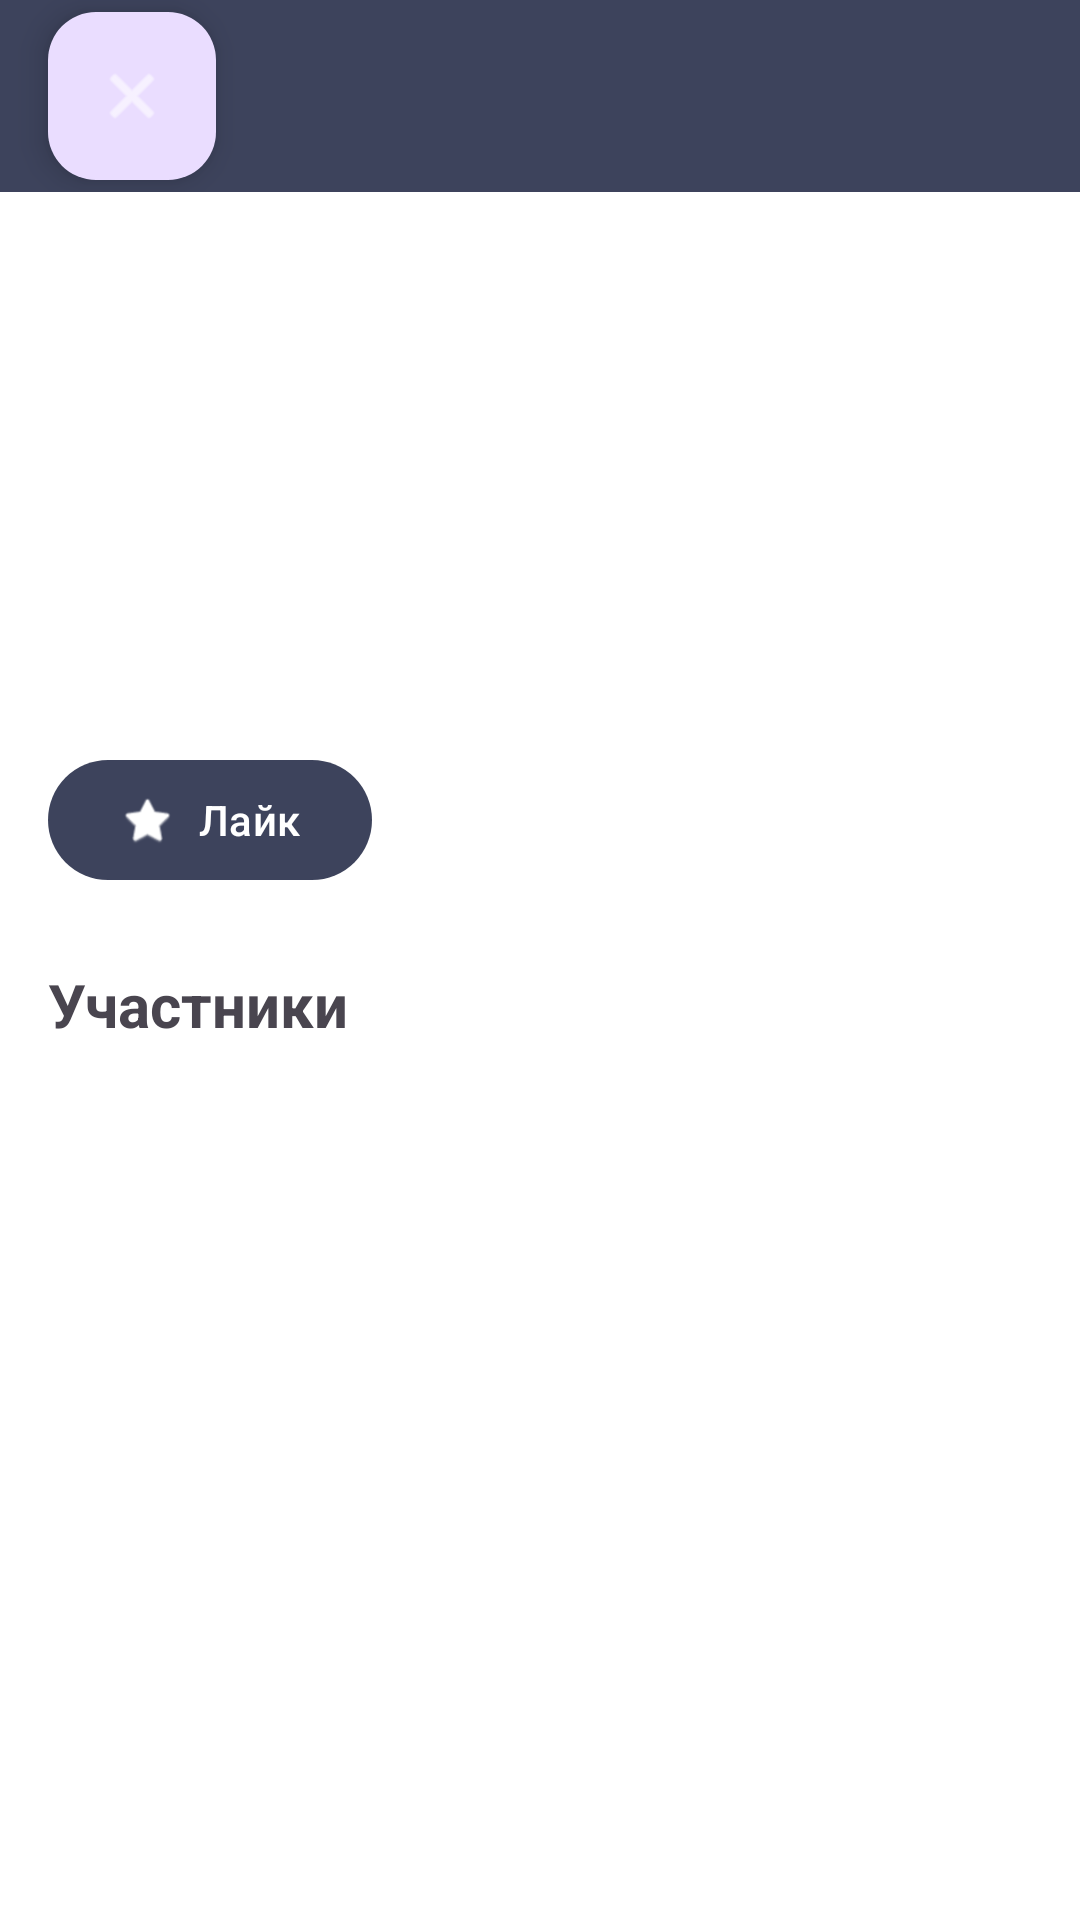

Named icons in this screenshot (1080w x 1920h) and their centers, (x=x, y=y):
Назад: (x=132, y=96)
